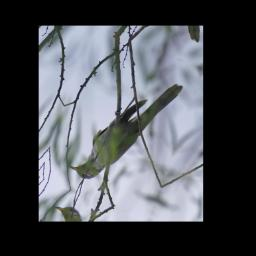Cuckoo: (68, 55, 188, 204)
